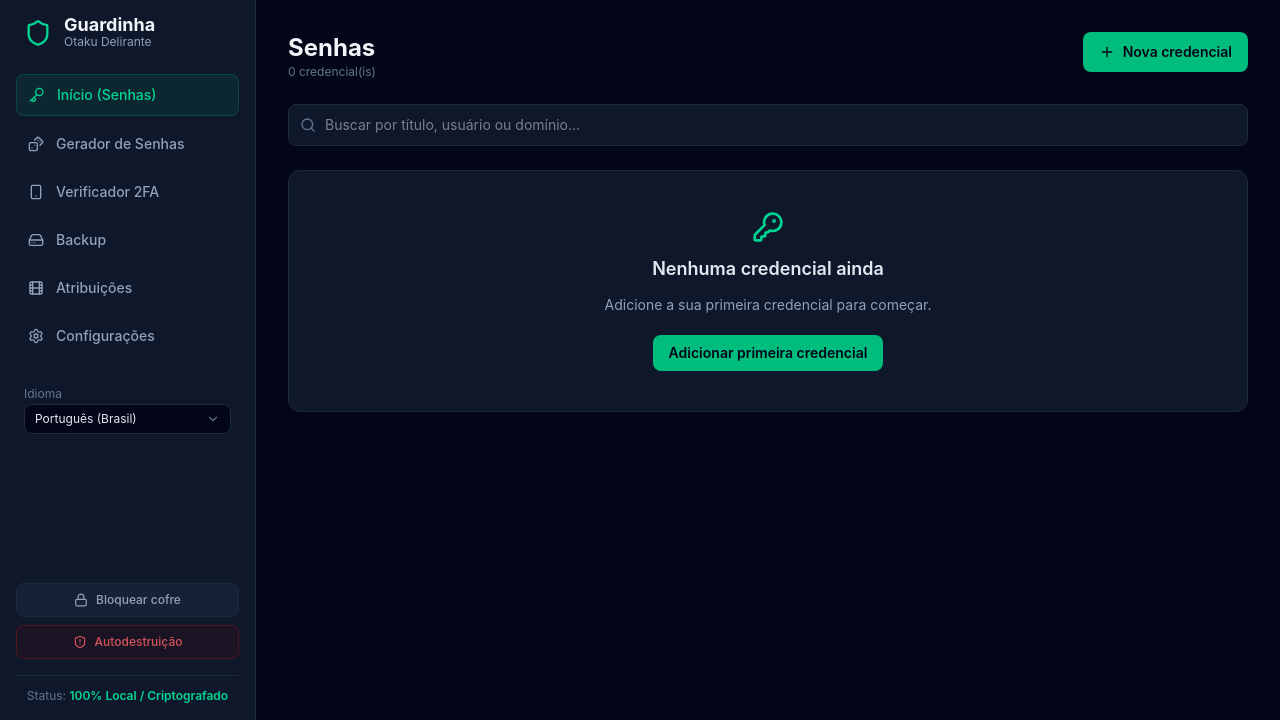
Test: a tela de autodestruição só existe quando o usuário pede › cancelar fecha a tela, e não deixa a confirmação pendurada
What coordinates should you click on to do the following:
click the button "Autodestruição"
I would click on:
 (128, 642)
Its box is [16,625,239,659].
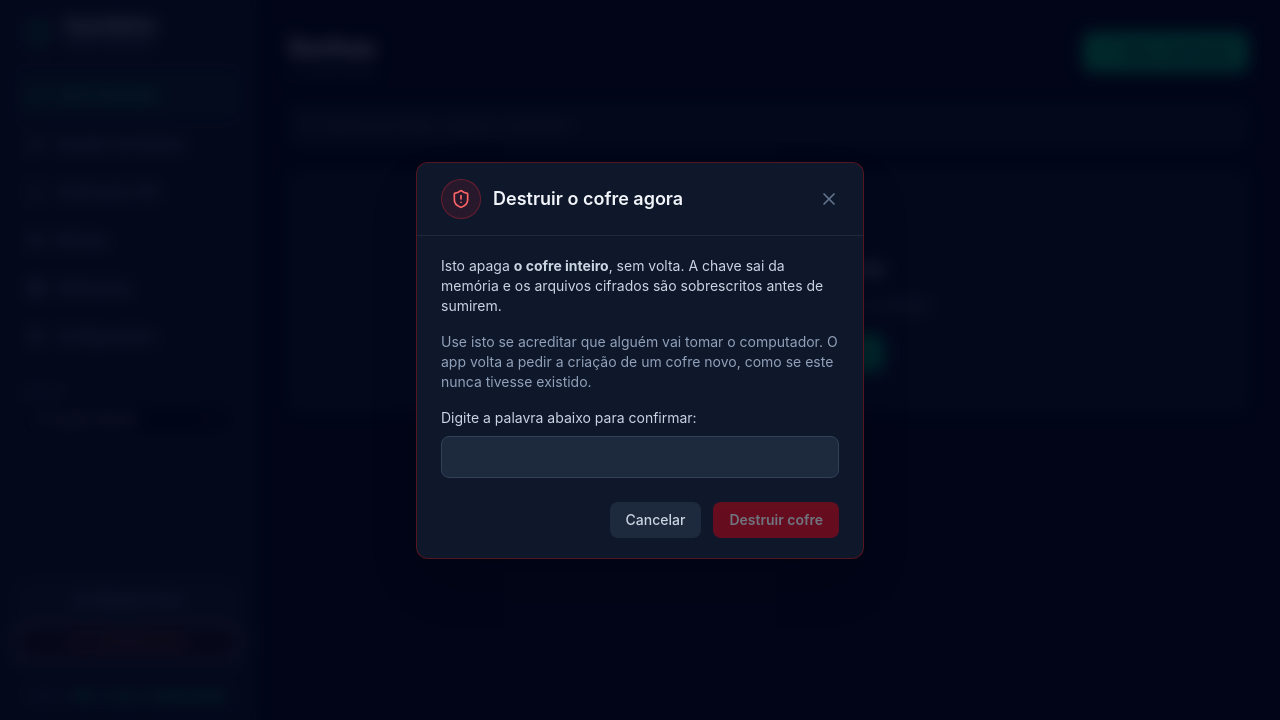
Check: the button "Destruir cofre" is shown, box [713,502,839,538]
What coordinates should you click on to do the following:
click the button "Cancelar"
I would click on:
 (656, 520)
Its box is [610,502,701,538].
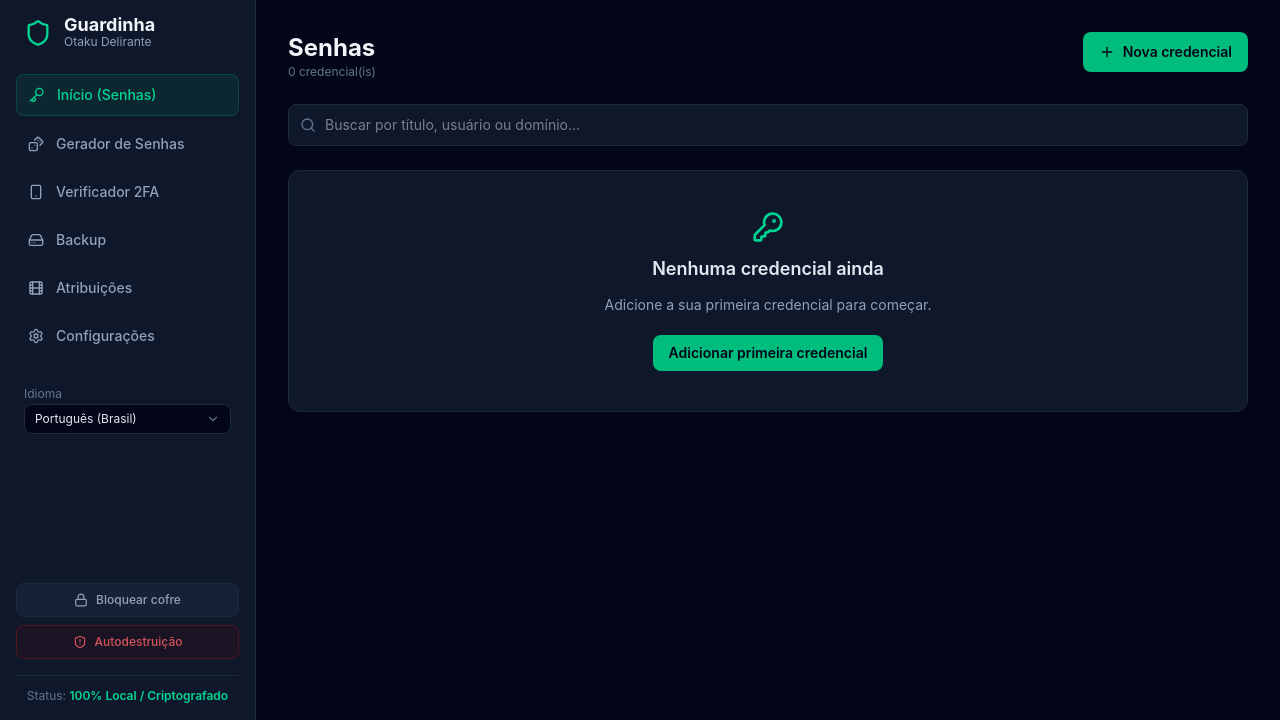
Check: the button "Destruir cofre" is gone
